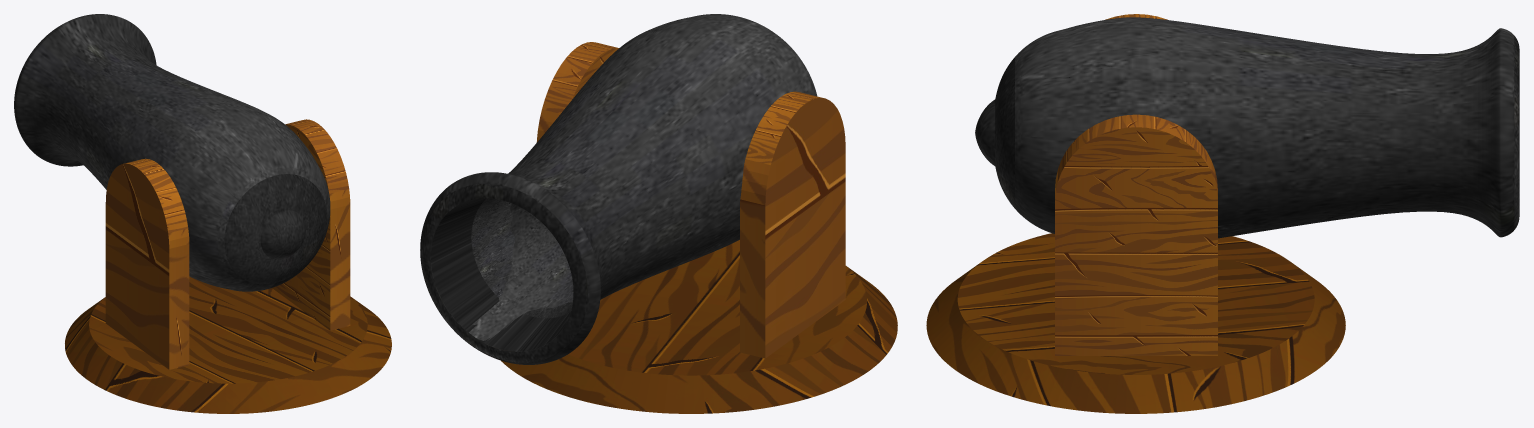
The model's file is canon.fbx.
3 views of the same model, side by side, from view 1: azimuth 30°, elevation 25°; view 2: azimuth 150°, elevation 25°; view 3: azimuth 270°, elevation 25° (orthographic). The views are drawn at different scales.
Visible parts, largest first — view 1: Cube.002, Cube.001, Cube; view 2: Cube.002, Cube.001, Cylindre, Cube; view 3: Cube.002, Cube.
Part boxes in pixels (x1=…): Cube.002: x1=14, y1=14, x2=391, y2=413; Cube.001: x1=105, y1=158, x2=189, y2=369; Cube: x1=272, y1=119, x2=350, y2=330; Cube.002: x1=420, y1=14, x2=897, y2=413; Cube.001: x1=740, y1=91, x2=845, y2=358; Cylindre: x1=431, y1=198, x2=573, y2=351; Cube: x1=536, y1=42, x2=618, y2=142; Cube.002: x1=926, y1=17, x2=1519, y2=413; Cube: x1=1055, y1=114, x2=1217, y2=355.
Bounding box in the file's own units: 195 × 153 × 276.
